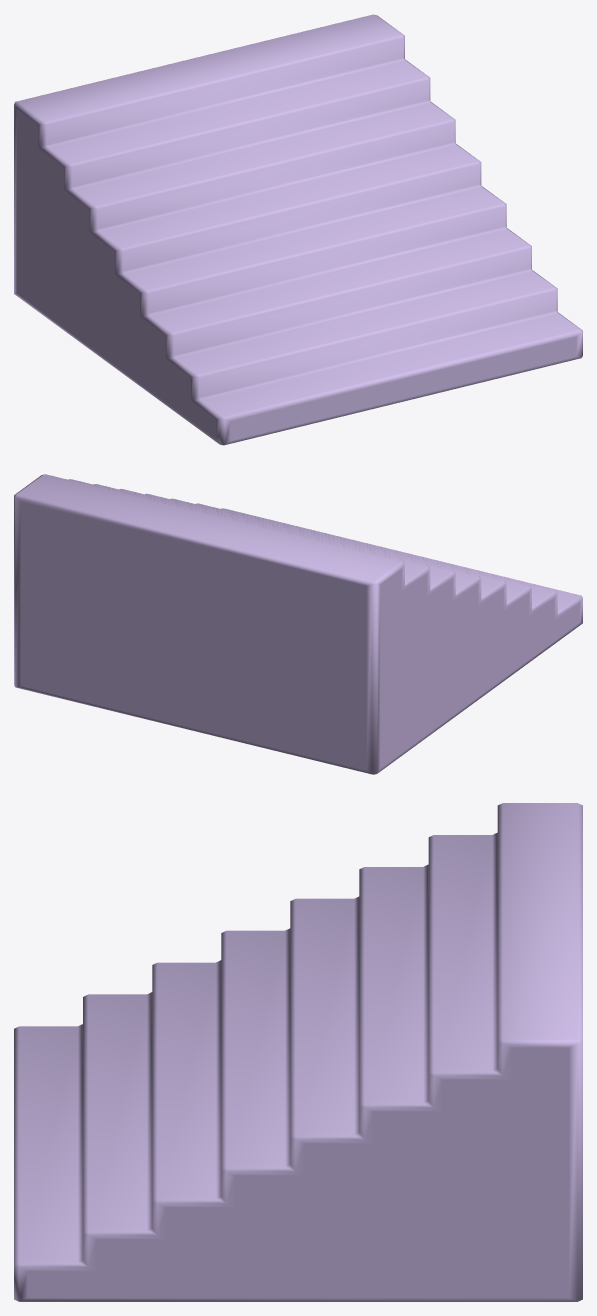
Rendered from stairs.fbx.
3 views of the same model, one above another, from view 1: azimuth 30°, elevation 25°; view 2: azimuth 150°, elevation 25°; view 3: azimuth 270°, elevation 25° (orthographic). The views are drawn at different scales.
Visible parts, largest first — view 1: stairs; view 2: stairs; view 3: stairs.
Part boxes in pixels (<box>): stairs: <box>14,14,582,445</box>; stairs: <box>14,474,582,774</box>; stairs: <box>14,803,582,1301</box>.
Size of the model in its own units: 1.98 by 1.98 by 1.01.
